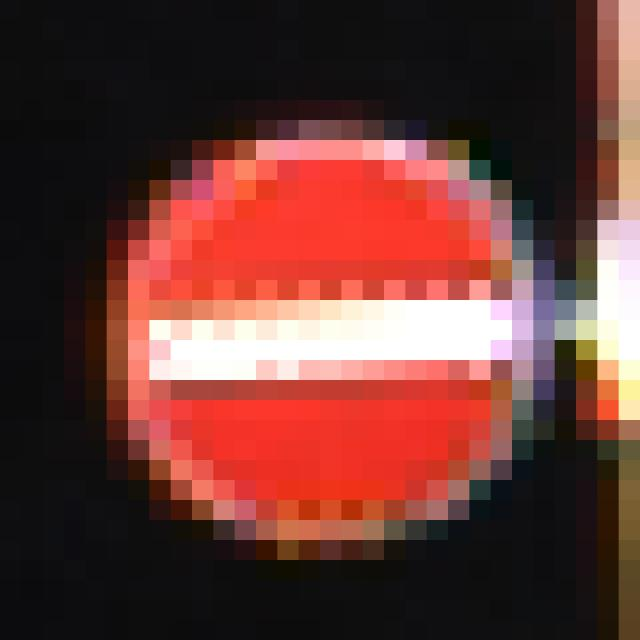No Entry: (108, 101, 534, 541)
